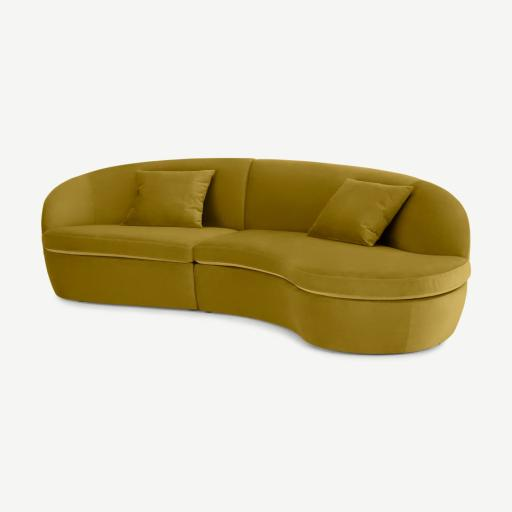back_cushion: (42, 158, 469, 258)
base: (45, 252, 467, 354)
seat_cushion: (43, 225, 470, 299)
two-seater: (0, 0, 511, 512)
